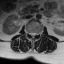CCS_normal: (32, 30, 34, 40)
LFS_normal: (36, 30, 38, 37)
LLS_normal: (34, 30, 36, 38)
RFS_normal: (28, 30, 30, 36)
RLS_normal: (30, 30, 32, 38)
